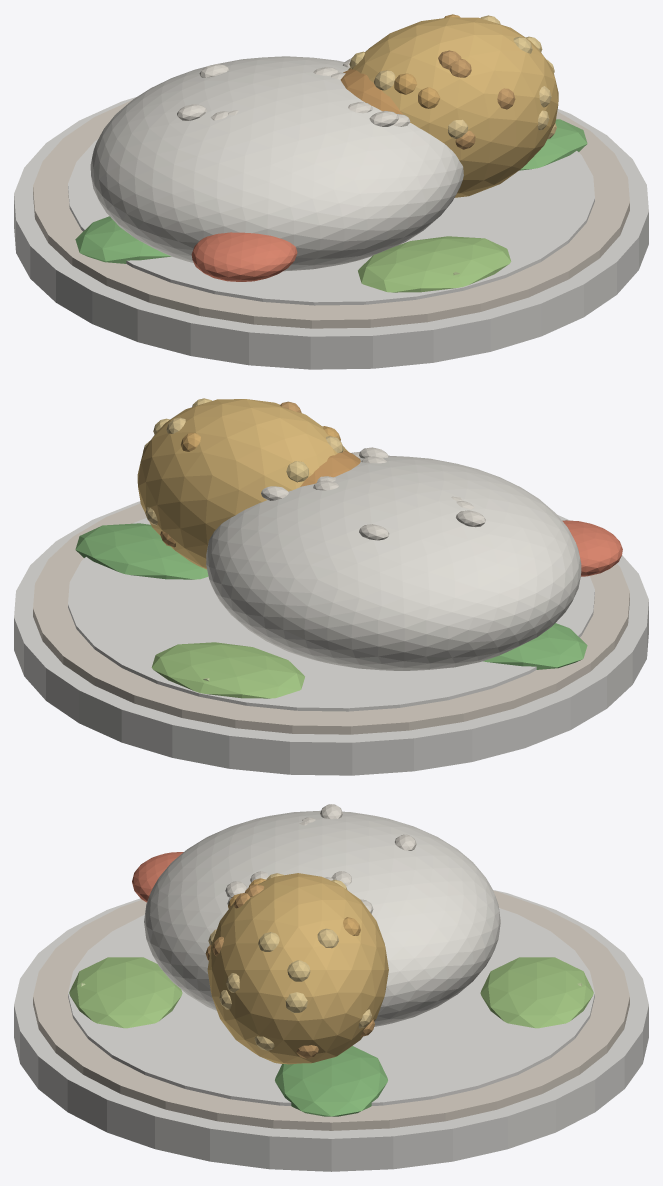
File: com_ga.glb
3 renders of one model, top to bottom at view 1: azimuth 30°, elevation 25°; view 2: azimuth 150°, elevation 25°; view 3: azimuth 270°, elevation 25°, orthographic.
Visible parts, largest first — view 1: obj_0003, obj_0000, obj_0001, obj_0002, obj_0034, obj_0064, obj_0070, obj_0066, obj_0062, obj_0035; view 2: obj_0003, obj_0000, obj_0002, obj_0001, obj_0034, obj_0068, obj_0062, obj_0066, obj_0070, obj_0035; view 3: obj_0003, obj_0000, obj_0002, obj_0001, obj_0034, obj_0068, obj_0064, obj_0062, obj_0070.
Boxes of the visible parts, x1=… form: obj_0003: x1=90, y1=56, x2=463, y2=271; obj_0000: x1=14, y1=97, x2=648, y2=369; obj_0001: x1=33, y1=100, x2=629, y2=328; obj_0002: x1=68, y1=139, x2=594, y2=305; obj_0034: x1=348, y1=17, x2=558, y2=197; obj_0064: x1=358, y1=236, x2=511, y2=292; obj_0070: x1=191, y1=232, x2=297, y2=281; obj_0066: x1=75, y1=216, x2=171, y2=263; obj_0062: x1=519, y1=119, x2=587, y2=170; obj_0035: x1=340, y1=69, x2=410, y2=122; obj_0003: x1=206, y1=455, x2=581, y2=670; obj_0000: x1=14, y1=501, x2=648, y2=775; obj_0002: x1=68, y1=518, x2=594, y2=711; obj_0001: x1=33, y1=503, x2=629, y2=734; obj_0034: x1=137, y1=399, x2=348, y2=569; obj_0068: x1=151, y1=642, x2=304, y2=698; obj_0062: x1=75, y1=523, x2=208, y2=579; obj_0066: x1=483, y1=623, x2=587, y2=669; obj_0070: x1=562, y1=520, x2=622, y2=576; obj_0035: x1=300, y1=450, x2=360, y2=486; obj_0003: x1=144, y1=810, x2=500, y2=1026; obj_0000: x1=14, y1=890, x2=648, y2=1171; obj_0002: x1=68, y1=908, x2=594, y2=1105; obj_0001: x1=33, y1=890, x2=629, y2=1130; obj_0034: x1=207, y1=873, x2=388, y2=1064; obj_0068: x1=480, y1=957, x2=593, y2=1028; obj_0064: x1=69, y1=957, x2=182, y2=1028; obj_0062: x1=275, y1=1046, x2=387, y2=1116; obj_0070: x1=132, y1=852, x2=183, y2=902.
Size of the model in its own units: 2.1 by 0.72 by 2.1.
